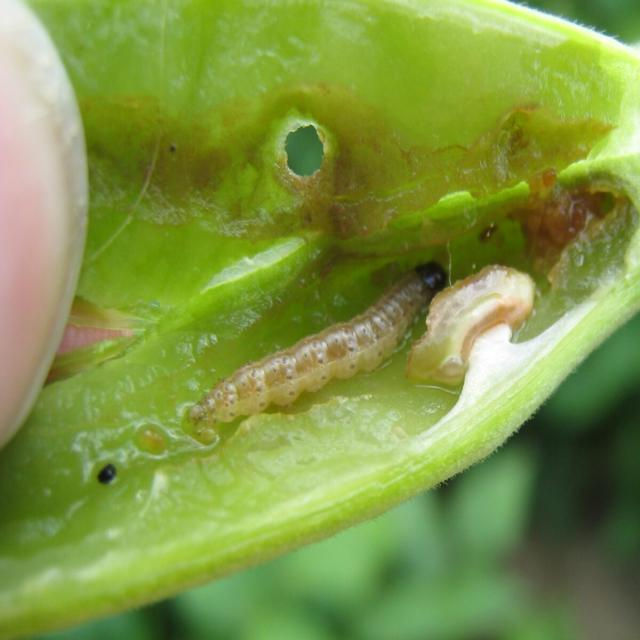cornborer-Larva-: (175, 248, 455, 434)
